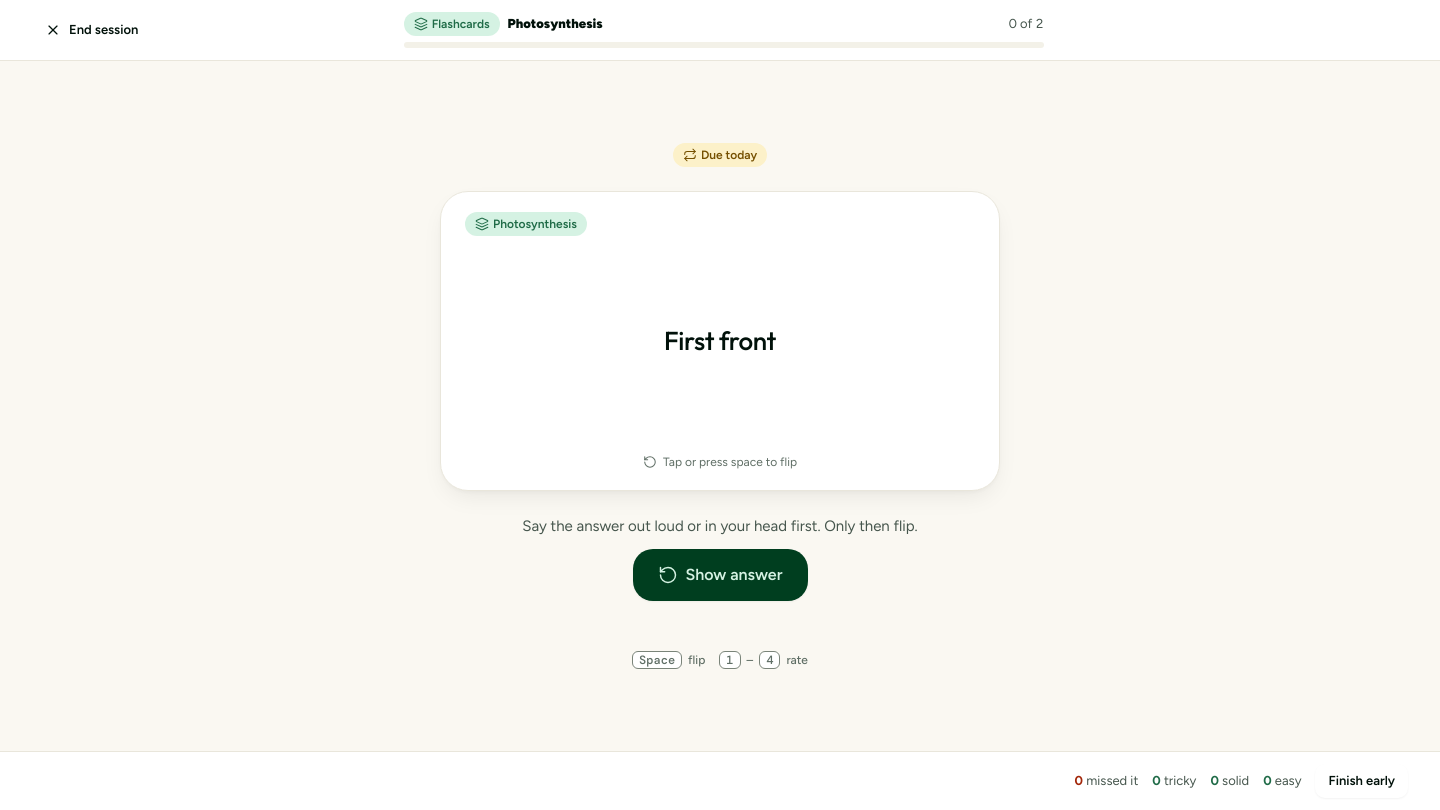
PracticeSessionView › keeps the card when a rating can’t be saved
This screenshot has width=1440, height=810.
Click the button with test id "show-answer" at (720, 575), box [632,549,808,601]
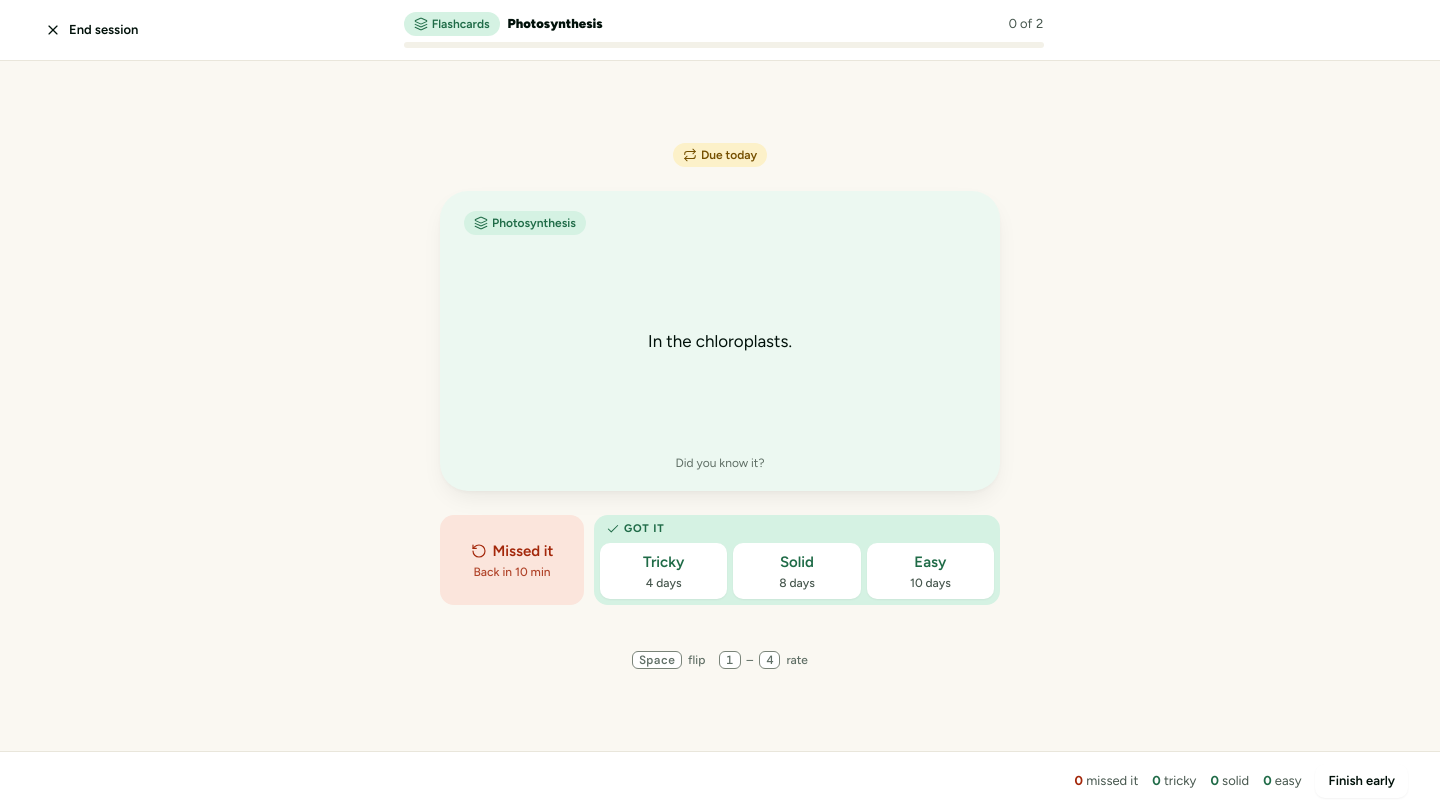
Click the button with test id "rate-good" at (797, 571), box [733,543,861,599]
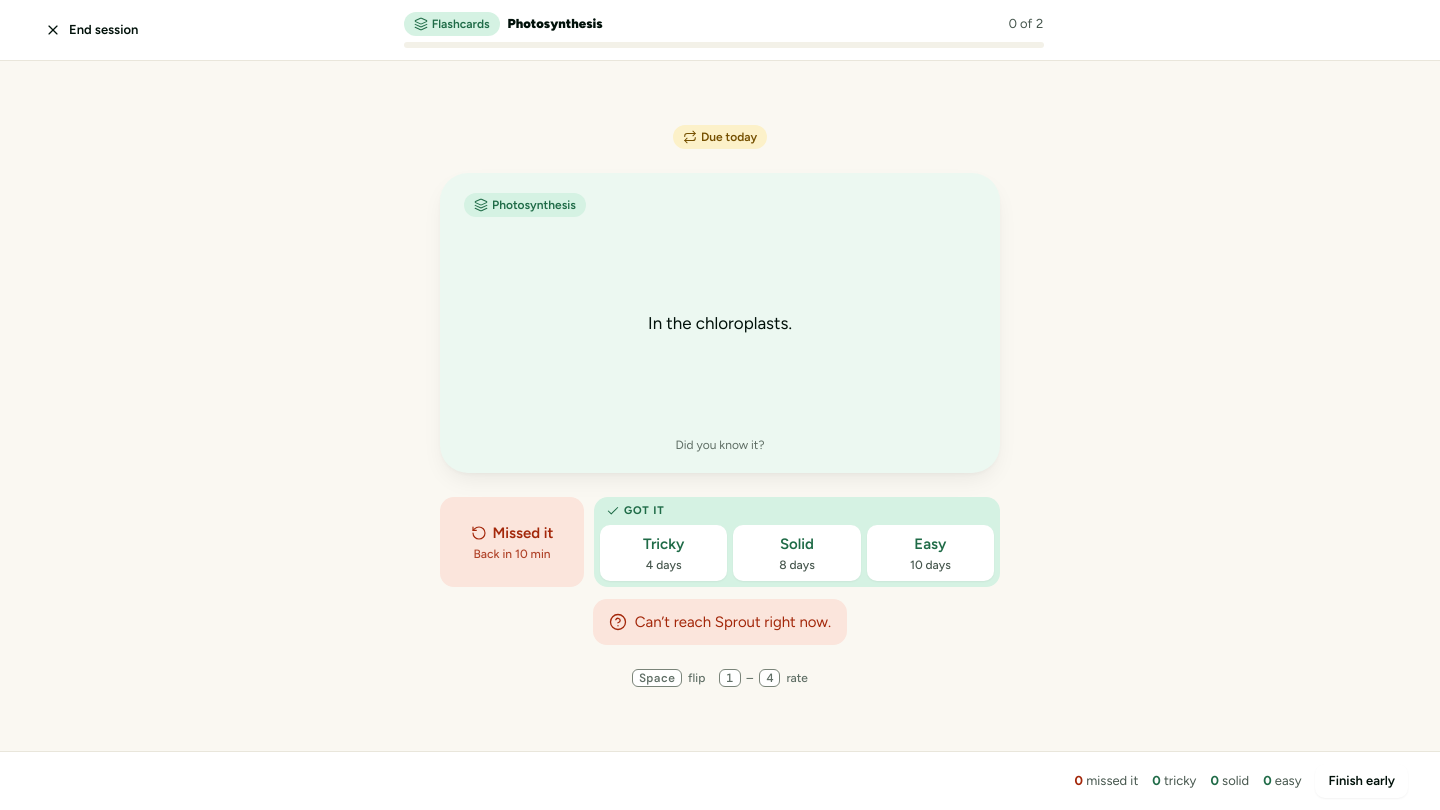
expect the text with test id "flashcard-front" reads "First front": met, box [664,306,776,339]
expect the message with test id "form-error" shows "Can’t reach Sprout": met, box [635,613,831,631]
